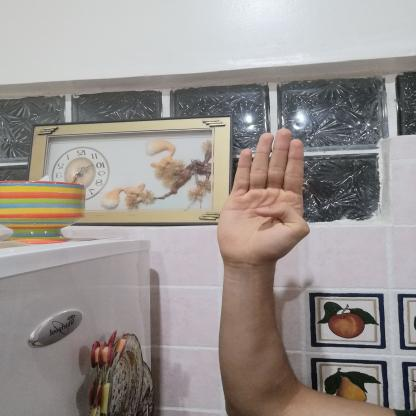KAAF: (204, 118, 324, 277)
